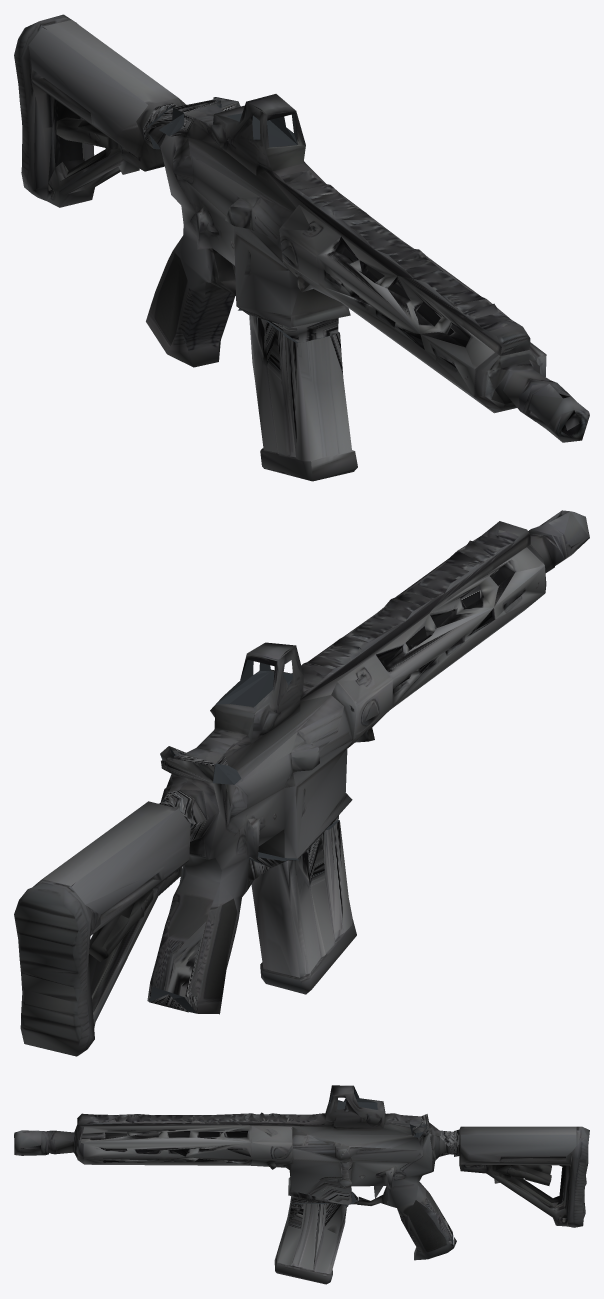
The picture shows the model from 3 angles, top to bottom: view 1: azimuth 30°, elevation 25°; view 2: azimuth 150°, elevation 25°; view 3: azimuth 270°, elevation 25°; orthographic projection. The views are drawn at different scales.
Parts seen in each view (by area): view 1: Body, Stock, Magazine; view 2: Body, Stock, Magazine; view 3: Body, Stock, Magazine.
Boxes of the visible parts, left/top/right/bottom form: Body: left=146, top=94, right=589, bottom=442; Stock: left=14, top=14, right=186, bottom=207; Magazine: left=238, top=308, right=357, bottom=481; Body: left=147, top=510, right=589, bottom=1014; Stock: left=14, top=800, right=191, bottom=1056; Magazine: left=249, top=820, right=356, bottom=994; Body: left=14, top=1085, right=453, bottom=1260; Stock: left=454, top=1126, right=589, bottom=1247; Magazine: left=274, top=1191, right=357, bottom=1284.
Size of the model in its own units: 13.88 by 51.5 by 141.
